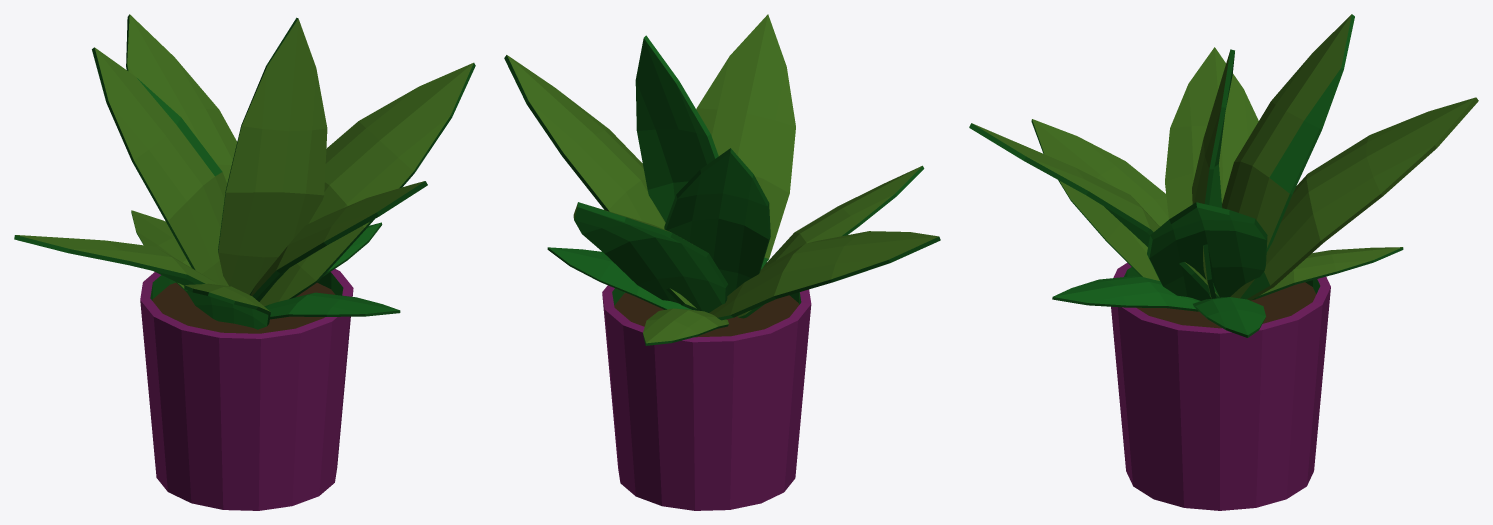
File: Plant1.fbx
The picture shows the model from 3 angles, left to right: view 1: azimuth 30°, elevation 25°; view 2: azimuth 150°, elevation 25°; view 3: azimuth 270°, elevation 25°; orthographic projection. The views are drawn at different scales.
Visible parts, largest first — view 1: Prop_Homeplant_01; view 2: Prop_Homeplant_01; view 3: Prop_Homeplant_01.
Boxes of the visible parts, x1,y1,x2,y2 form: Prop_Homeplant_01: [14, 14, 475, 510]; Prop_Homeplant_01: [504, 14, 940, 510]; Prop_Homeplant_01: [969, 14, 1478, 510].
Size of the model in its own units: 50.94 by 46.89 by 48.1.
Materials: 1 (1 with a texture image).
